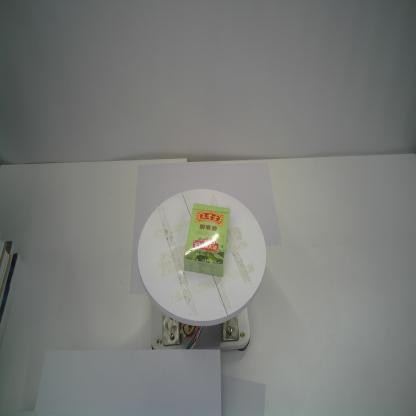Candy: (183, 203, 231, 277)
